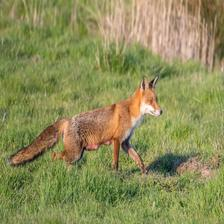fox: (5, 71, 194, 180)
